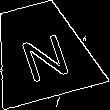N_N: (11, 21, 71, 81)
